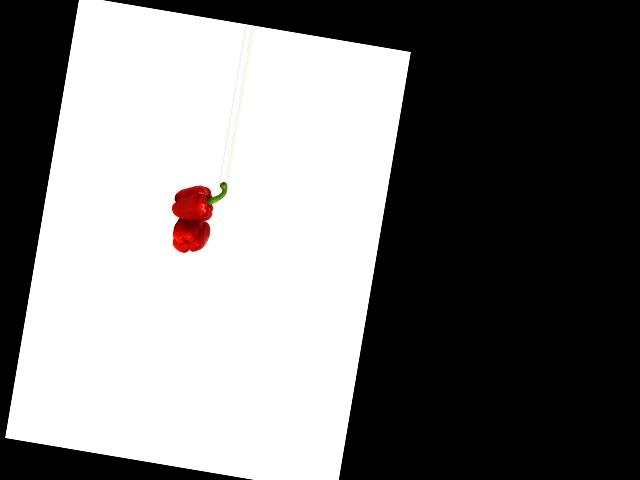bell_pepper: (168, 216, 213, 256)
